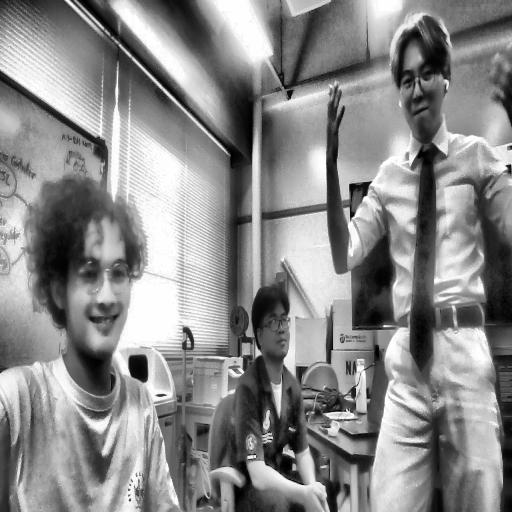Daifuku: (26, 174, 149, 361)
Not Daifuku: (388, 16, 450, 136), (254, 282, 294, 376)
